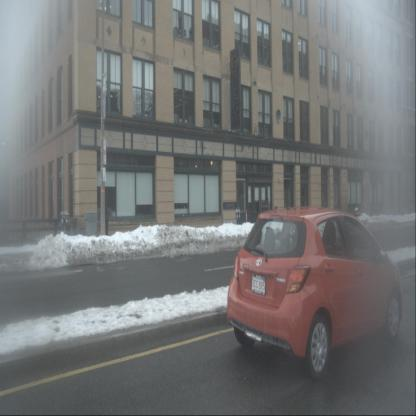cone: (244, 209, 248, 230)
